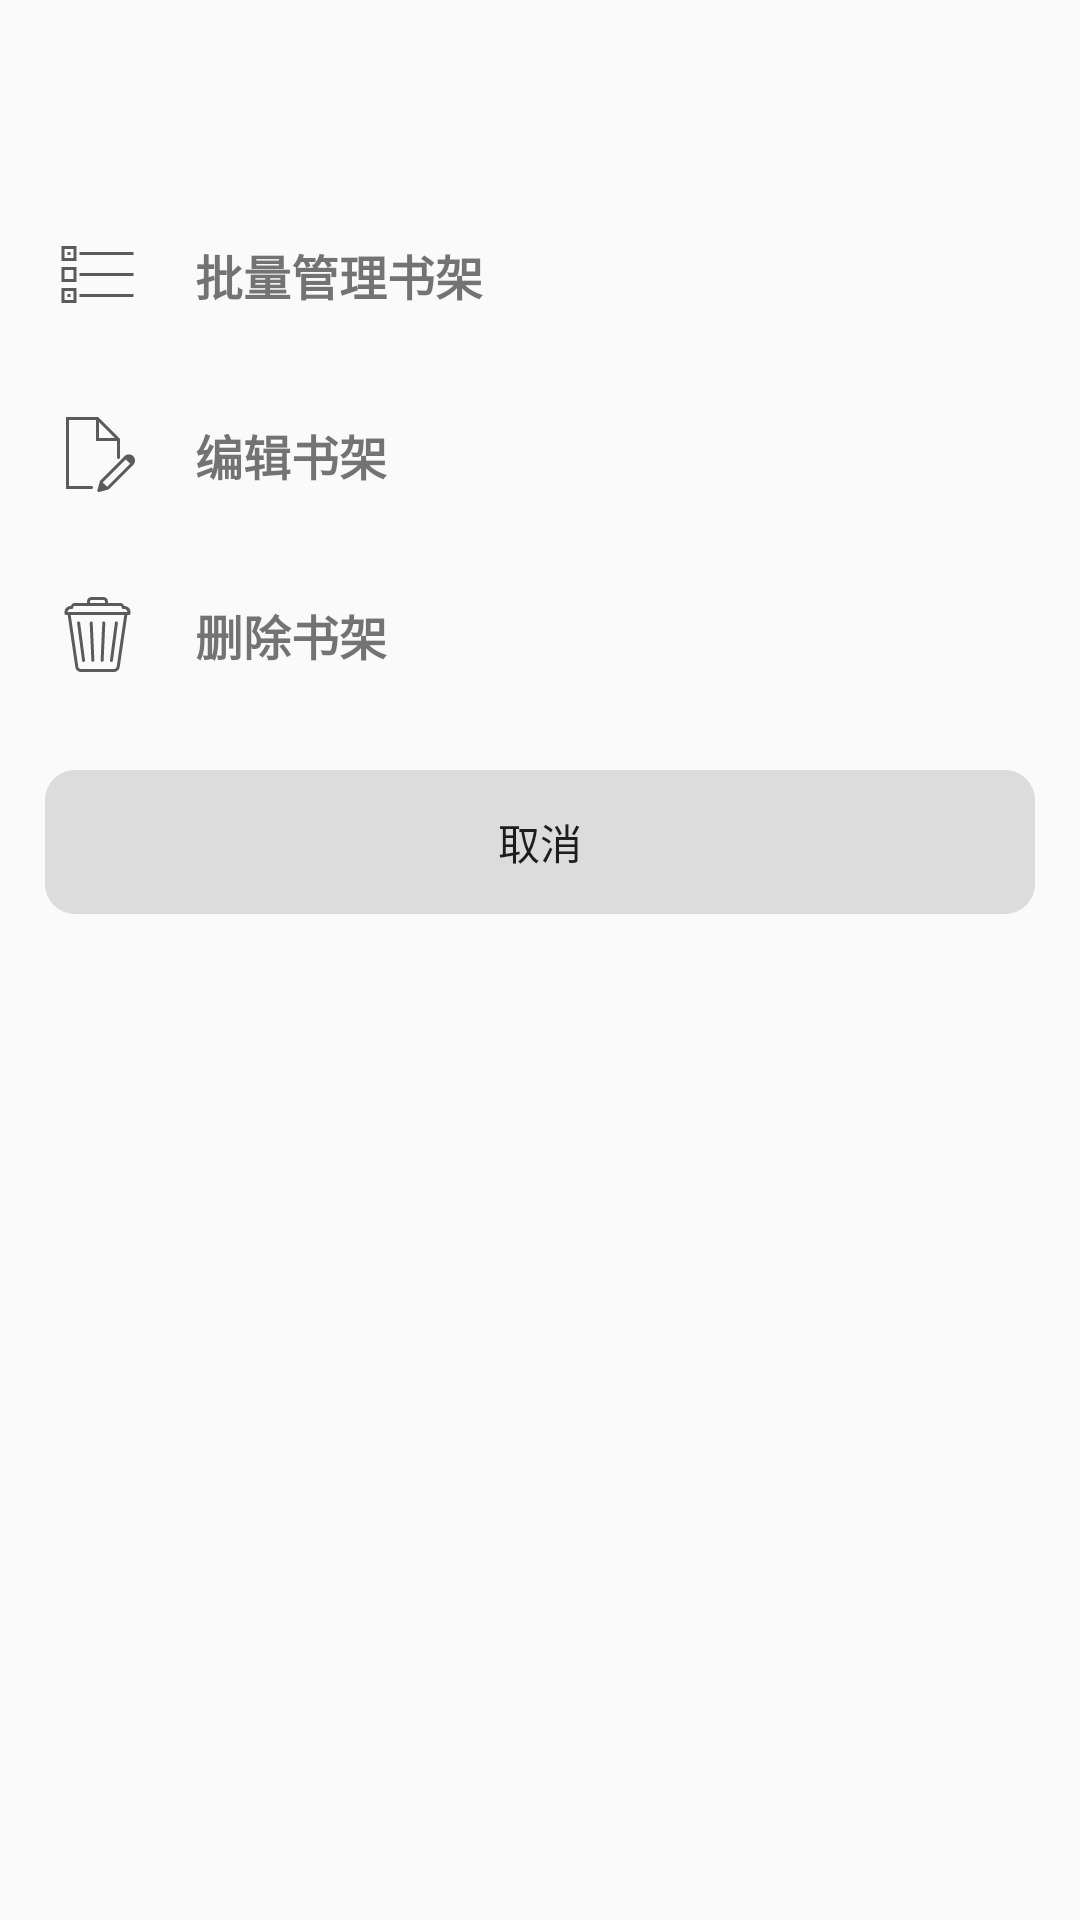

Where to tap for icons on this 1080x1920 app screen, as (x,y):
left more edit: (100,454)
left more multi: (97,274)
left more rubbish: (97,634)
